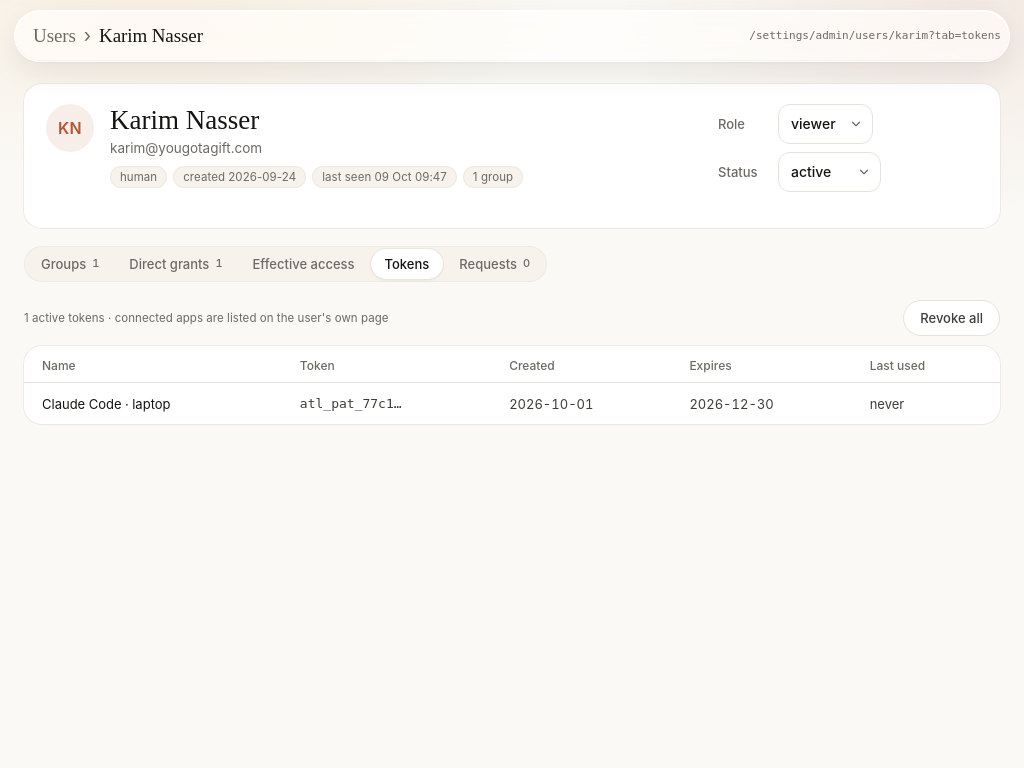
Scenario: UserDetailPage › tokens tab: a failed revoke-all keeps the card open with the backend sentence
Click the button "Revoke all": {"x": 952, "y": 318} [903,300,1000,336]
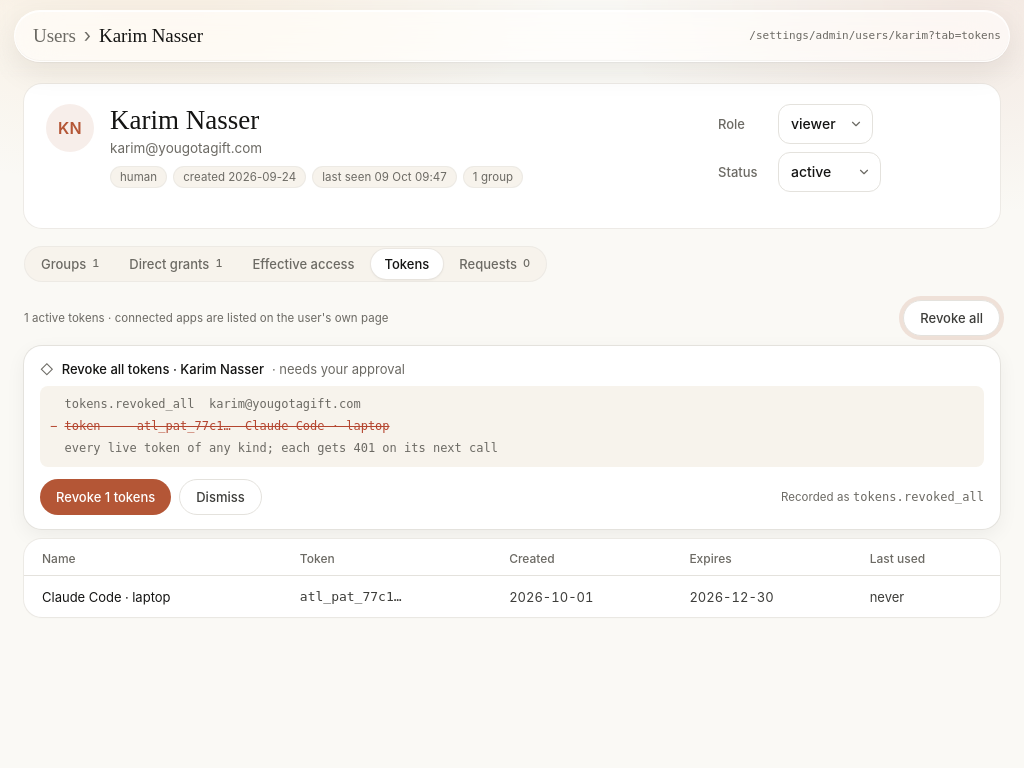
Click the button "Revoke 1 tokens": {"x": 106, "y": 497} [40,479,171,515]
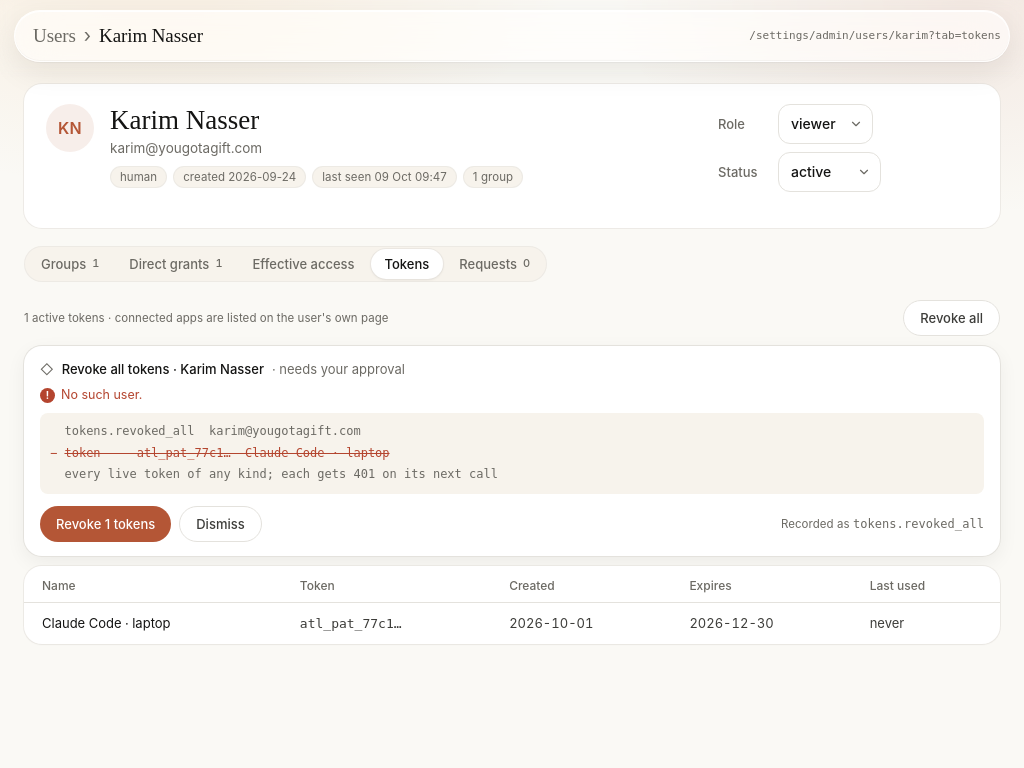
Expected: the text "No such user." is shown, [61,387,142,402]
